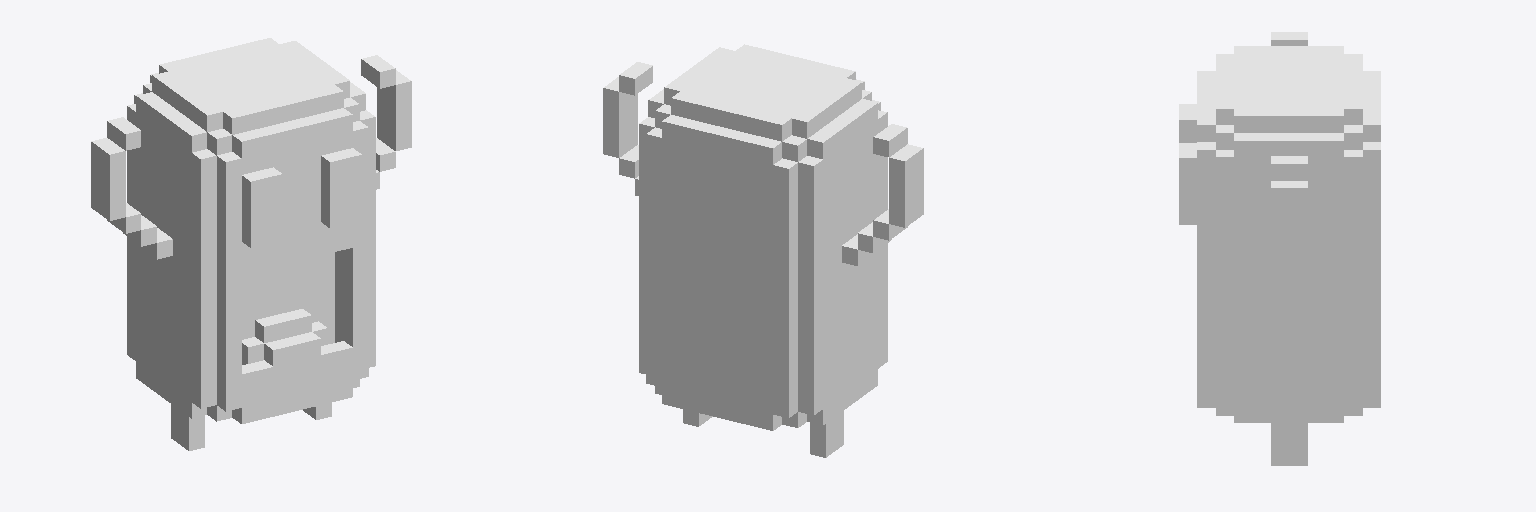
File: FreakingOutGuy_HandsUp.obj
3 views of the same model, side by side, from view 1: azimuth 30°, elevation 25°; view 2: azimuth 150°, elevation 25°; view 3: azimuth 270°, elevation 25° (orthographic).
Visible parts, largest first — view 1: object 1; view 2: object 1; view 3: object 1.
Part boxes in pixels (left/top/right/bottom): object 1: left=91, top=38, right=411, bottom=450; object 1: left=603, top=44, right=923, bottom=457; object 1: left=1179, top=32, right=1380, bottom=465.
Bounding box in the file's own units: 1.9 × 2.1 × 1.1.